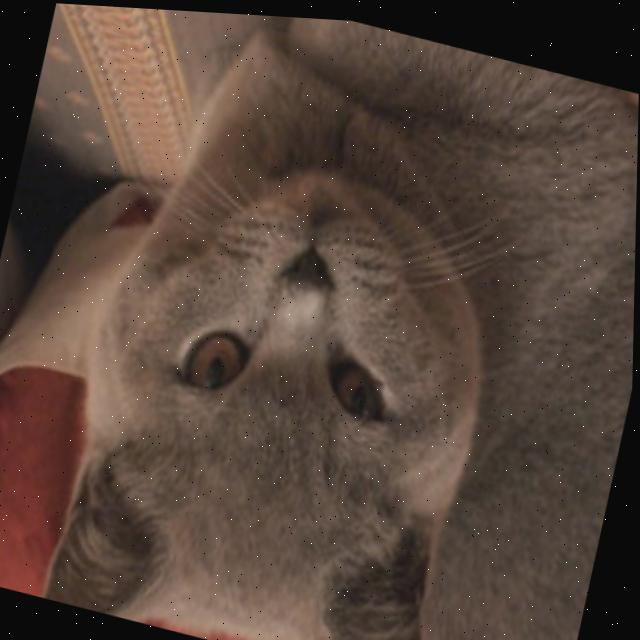British Shorthair: (37, 2, 640, 640)
